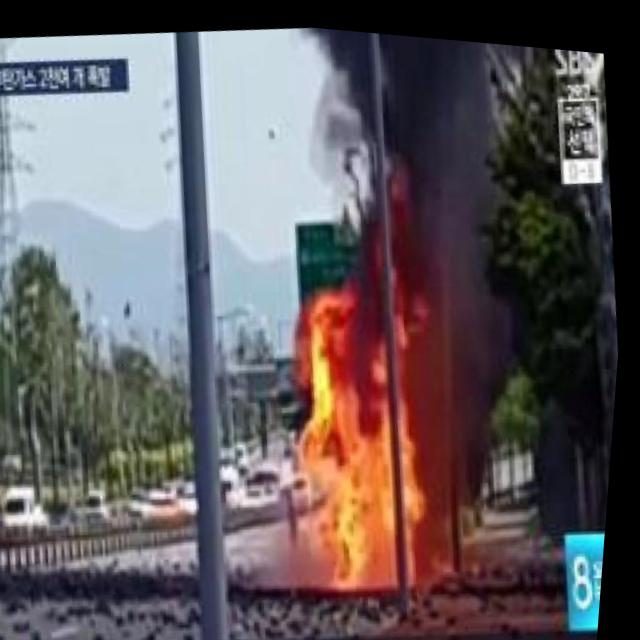Fire: (297, 402, 435, 599)
